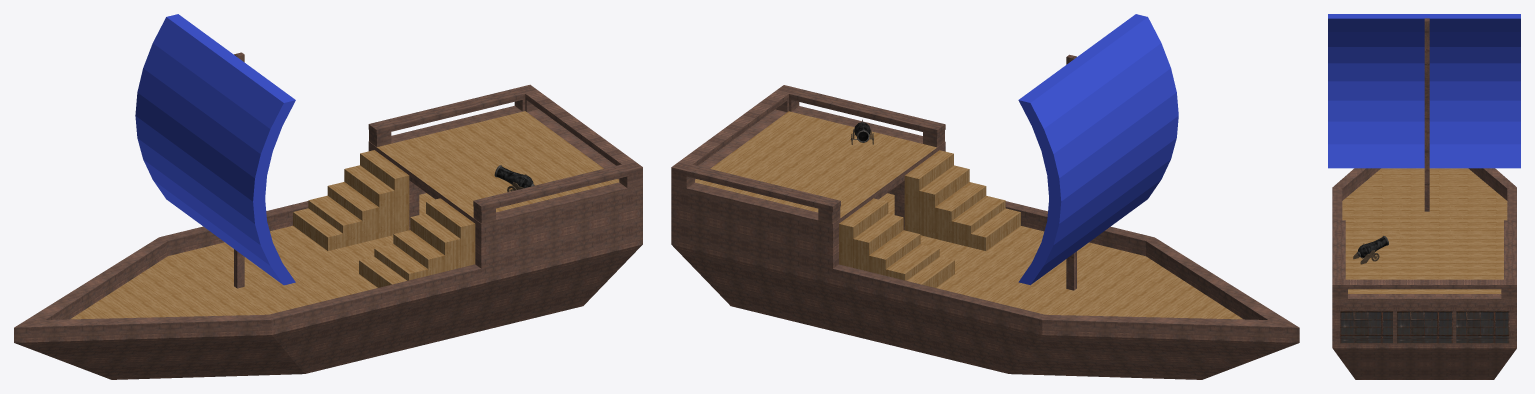
Rendered from blue.obj.
3 renders of one model, left to right at view 1: azimuth 30°, elevation 25°; view 2: azimuth 150°, elevation 25°; view 3: azimuth 270°, elevation 25°, orthographic. The views are drawn at different scales.
Visible parts, largest first — view 1: blueboat; view 2: blueboat; view 3: blueboat.
Boxes of the visible parts, x1=… form: blueboat: x1=14, y1=14, x2=642, y2=379; blueboat: x1=671, y1=14, x2=1299, y2=379; blueboat: x1=1328, y1=14, x2=1520, y2=379.
Bounding box in the file's own units: 32.79 × 16.04 × 11.67.
Materials: 5 (5 with a texture image).
